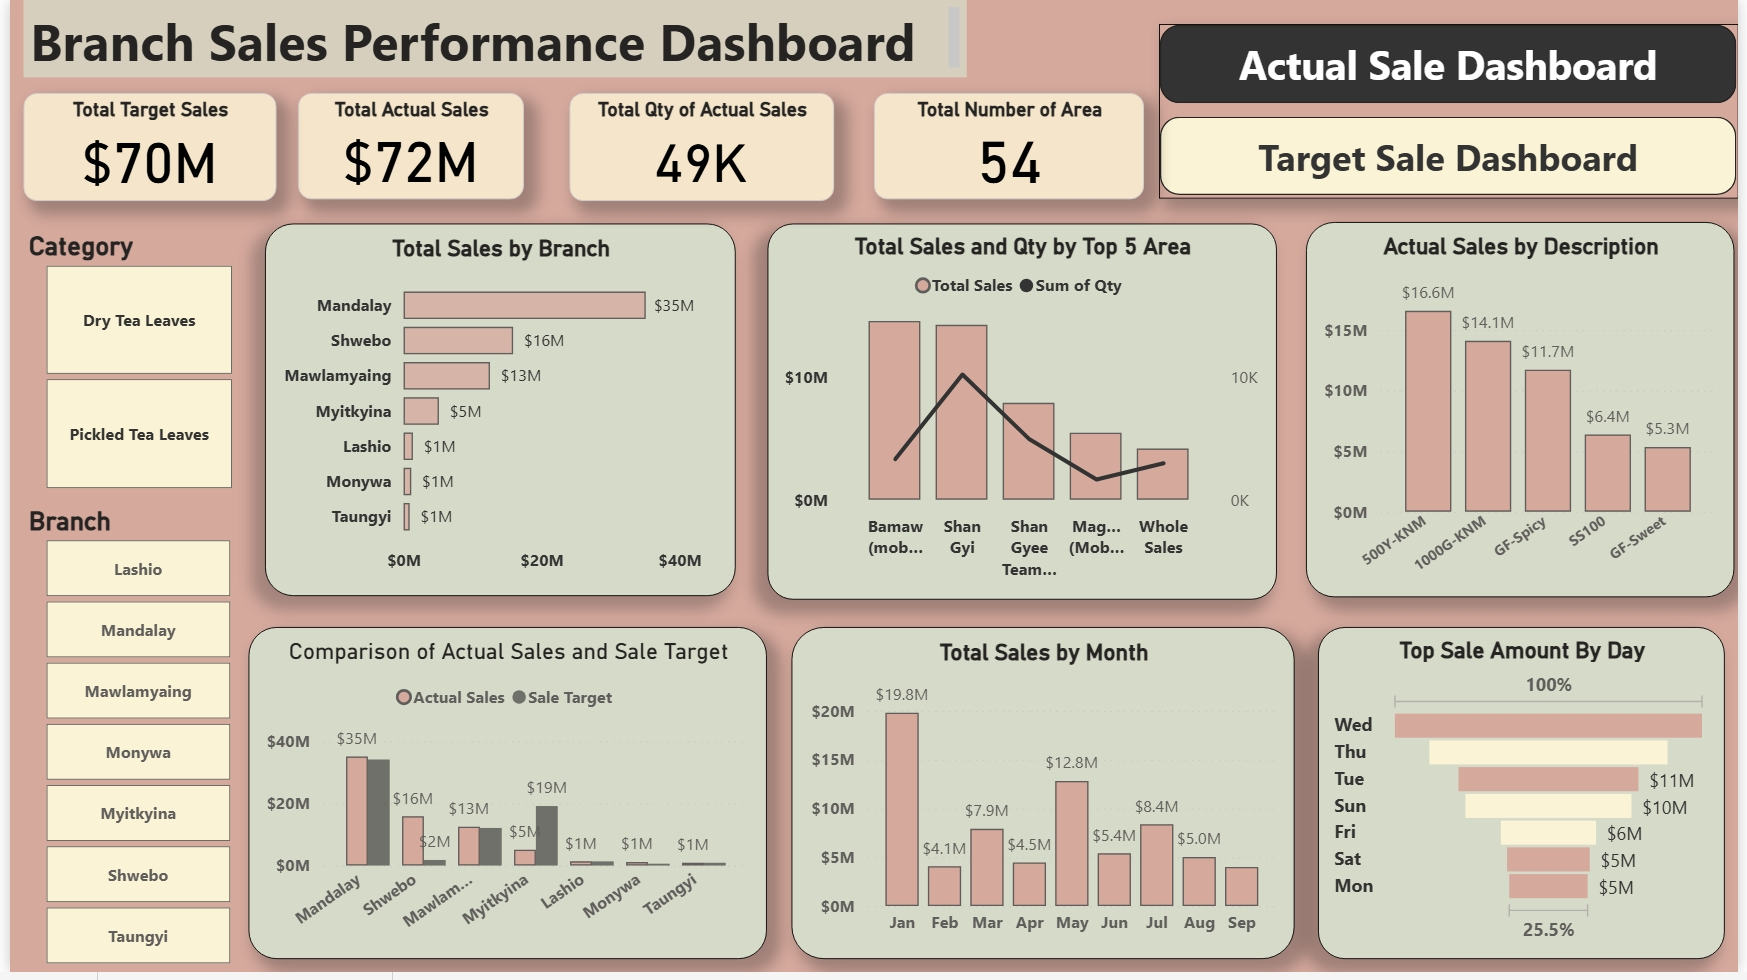

This screenshot's page, from the dashboard's own definition file:
{"tool":"powerbi","page":{"name":"Actual Sale Dashboard","canvas":[1280,720],"ordinal":0},"visuals":[{"type":"pageNavigator","box":[851.1,17.4,429.5,129.5],"z":0},{"type":"card","title":"Total Actual Sales","fields":{"Values":["Measurement.Total Sales"]},"box":[212.9,68.6,167.1,78.6],"z":1000},{"type":"clusteredBarChart","fields":{"Category":["Branch.Branch"],"Y":["Measurement.Total Sales"]},"box":[188.6,165.7,348.6,275.7],"z":2000},{"type":"clusteredColumnChart","title":"Comparison of Actual Sales and Sale Target","fields":{"Y":["Measurement.Total Sales","Sum(SaleTargetAmount.Target Amount)"],"Category":["Branch.Branch"]},"box":[177.1,464.3,384.3,245.7],"z":3000},{"type":"slicer","fields":{"Values":["SaleDB2024.Branch"]},"box":[1.4,368.6,185.7,351.4],"z":4000},{"type":"clusteredColumnChart","fields":{"Y":["Measurement.Total Sales"],"Category":["DateTable.Month"]},"box":[578.6,464.3,372.9,245.7],"z":5000},{"type":"columnChart","title":"Actual Sales by Description","fields":{"Y":["Measurement.Total Sales"],"Category":["SaleDB2024.Description"]},"box":[960,164.2,317.4,277.9],"z":6000},{"type":"lineStackedColumnComboChart","title":"Total Sales and Qty by Top 5 Area","fields":{"Category":["SaleDB2024.Area"],"Y":["Measurement.Total Sales"],"Y2":["Sum(SaleDB2024.Qty)"]},"box":[561.4,165.7,377.1,278.6],"z":7000},{"type":"funnel","title":"Top Sale Amount By Day","fields":{"Y":["Measurement.Total Sales"],"Category":["DateTable.Day"]},"box":[968.6,464.3,301.4,245.7],"z":8000},{"type":"card","title":"Total Qty of Actual Sales","fields":{"Values":["Sum(SaleDB2024.Qty)"]},"box":[414.3,68.6,195.7,80],"z":9000},{"type":"card","title":"Total Target Sales","fields":{"Values":["Measurement.Targetsale"]},"box":[10,68.6,187.1,80],"z":10000},{"type":"card","title":"Total Number of Area","fields":{"Values":["Count(SaleDB2024.Area)"]},"box":[640,68.6,200,78.6],"z":11000},{"type":"slicer","fields":{"Values":["SaleDB2024.Category"]},"box":[1.4,165.7,187.1,202.9],"z":12000},{"type":"textbox","box":[10.6,0,829.8,57.5],"z":13000}]}

Visuals, with their boxes in screenshot pixels (x1, y1, x2, y2), scaled from the page's 1280x720 canvas onto the 1747x980 screenshot:
pageNavigator: select_region(1162, 24, 1746, 200)
"Total Actual Sales" card: select_region(291, 93, 519, 200)
clusteredBarChart - Branch.Branch x Measurement.Total Sales: select_region(257, 226, 733, 601)
"Comparison of Actual Sales and Sale Target" clusteredColumnChart: select_region(242, 632, 766, 966)
slicer - SaleDB2024.Branch: select_region(2, 502, 255, 979)
clusteredColumnChart - Measurement.Total Sales x DateTable.Month: select_region(790, 632, 1299, 966)
"Actual Sales by Description" columnChart: select_region(1310, 223, 1743, 602)
"Total Sales and Qty by Top 5 Area" lineStackedColumnComboChart: select_region(766, 226, 1281, 605)
"Top Sale Amount By Day" funnel: select_region(1322, 632, 1733, 966)
"Total Qty of Actual Sales" card: select_region(565, 93, 833, 202)
"Total Target Sales" card: select_region(14, 93, 269, 202)
"Total Number of Area" card: select_region(874, 93, 1146, 200)
slicer - SaleDB2024.Category: select_region(2, 226, 257, 502)
textbox: select_region(14, 0, 1147, 78)
